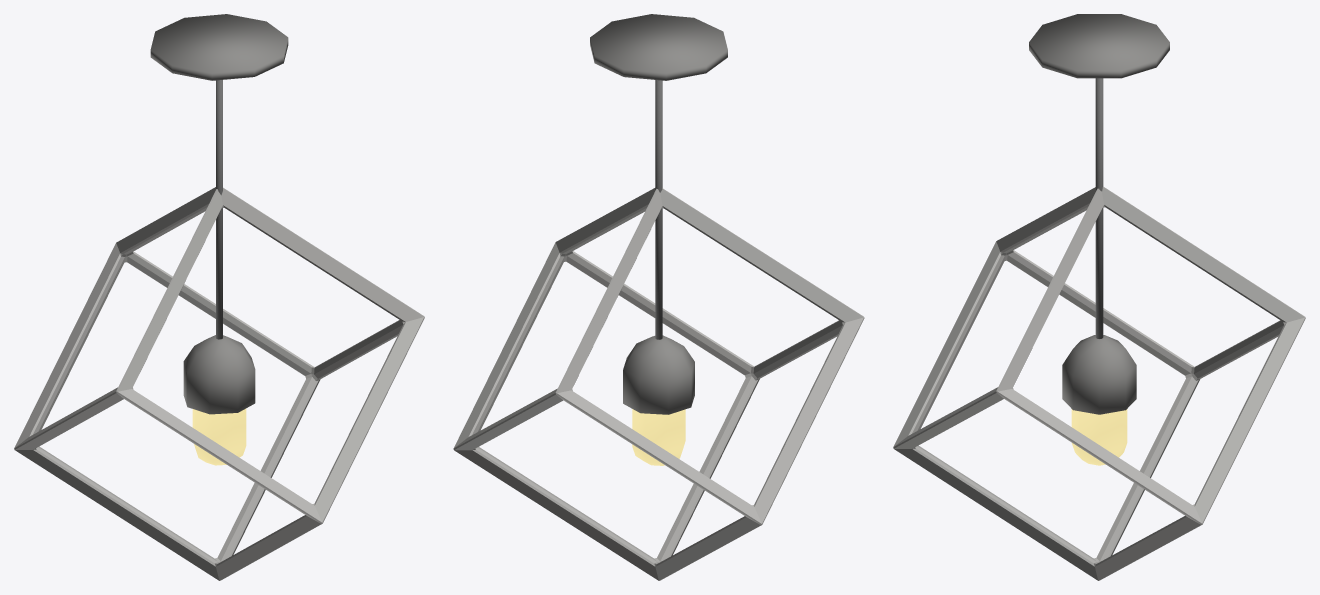
Rendered from Light_Cube2.glb.
3 views of the same model, side by side, from view 1: azimuth 30°, elevation 25°; view 2: azimuth 150°, elevation 25°; view 3: azimuth 270°, elevation 25° (orthographic).
Parts seen in each view (by area): view 1: Light_Cube2; view 2: Light_Cube2; view 3: Light_Cube2.
Part boxes in pixels (x1,y1,x2,y2): Light_Cube2: (14, 14, 424, 580); Light_Cube2: (453, 14, 864, 580); Light_Cube2: (893, 14, 1305, 580).
Bounding box in the file's own units: 0.5542 × 0.9223 × 0.6407.
